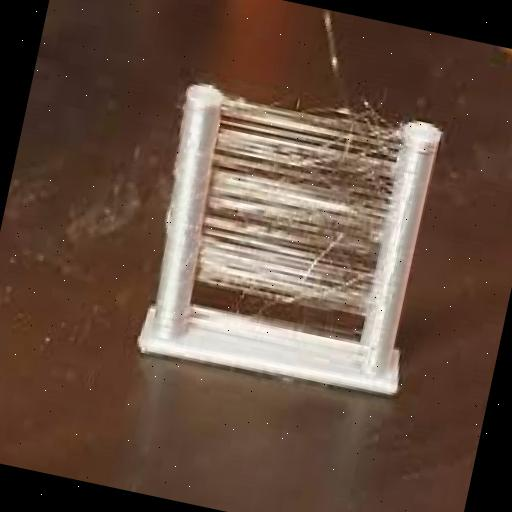stringing: (185, 92, 398, 326)
